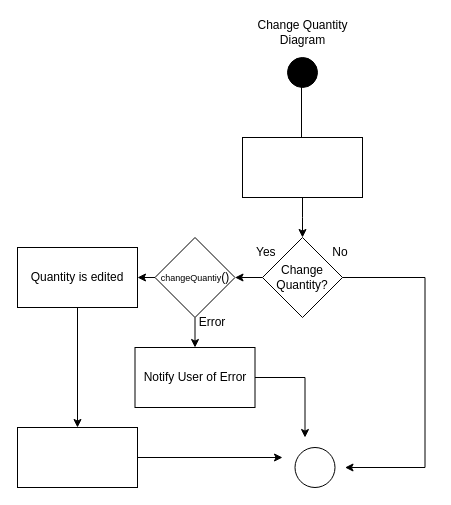
The diagram is 451 pixels wide and 505 high, and some of its shapes have lost their labels. The centre of each missing label's shape, as x and y in pixels:
"updateCart()" belongs at point (77, 457).
"View Cart()" belongs at point (302, 167).
